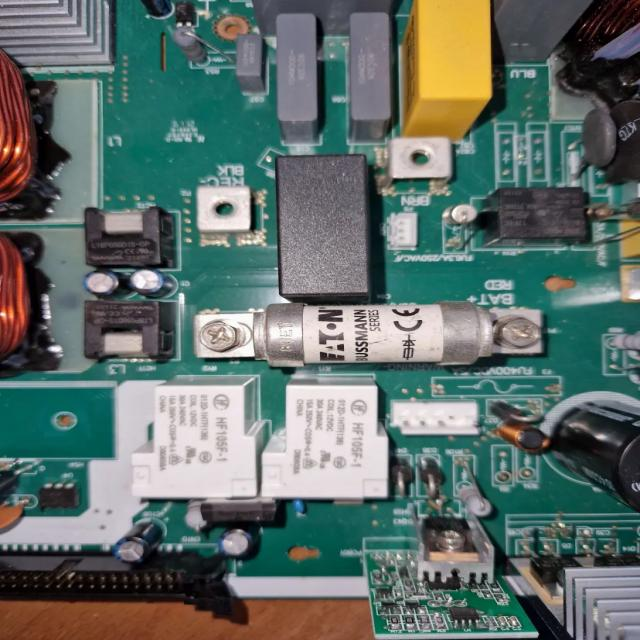A: (0, 50, 41, 216), (0, 230, 38, 358)
B: (195, 304, 545, 366)
C: (552, 404, 640, 514)
